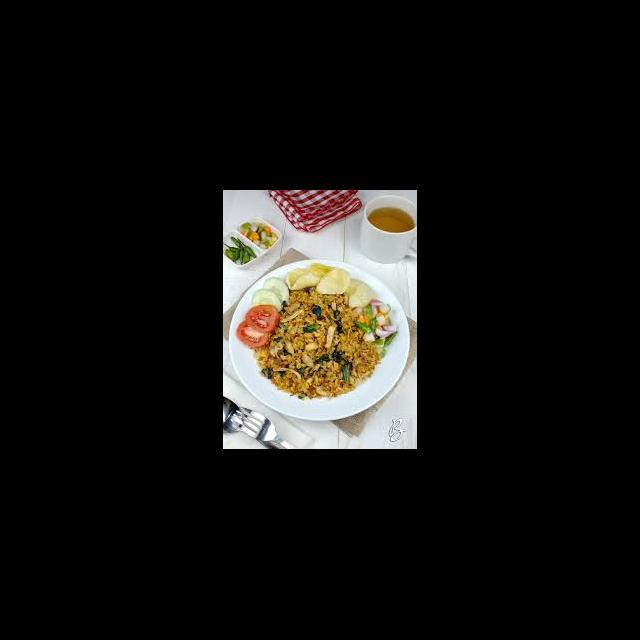food_waste: (259, 292, 377, 384)
